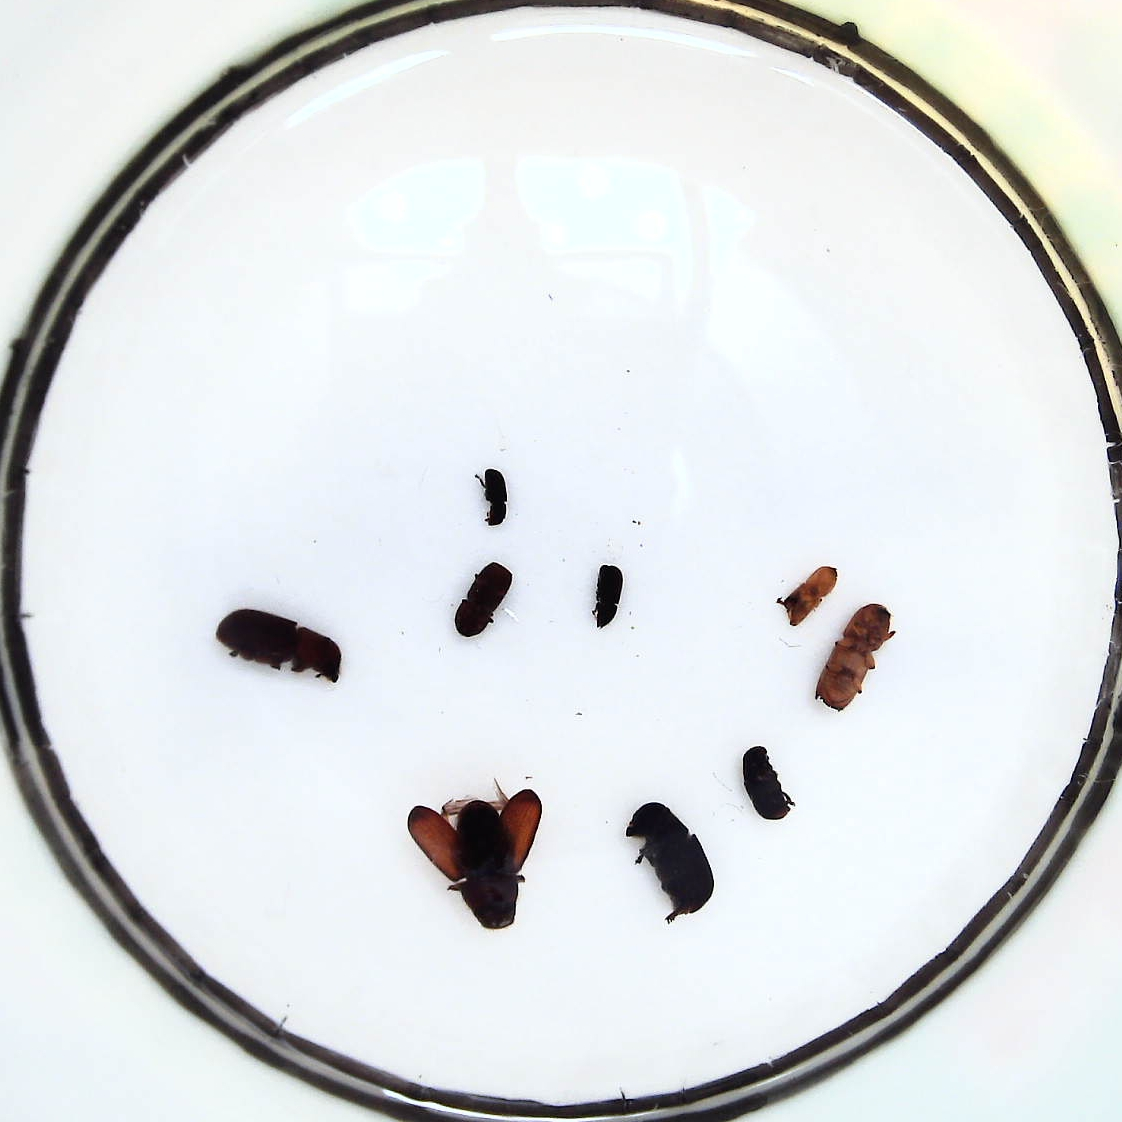Boerner: (817, 606, 891, 710)
Leconte: (408, 788, 543, 929), (626, 801, 715, 914), (215, 609, 342, 685)
acuminatus: (595, 564, 622, 630), (484, 467, 508, 525)
armandi: (455, 560, 513, 637), (743, 746, 792, 820)
coleoptera: (779, 565, 838, 625)
